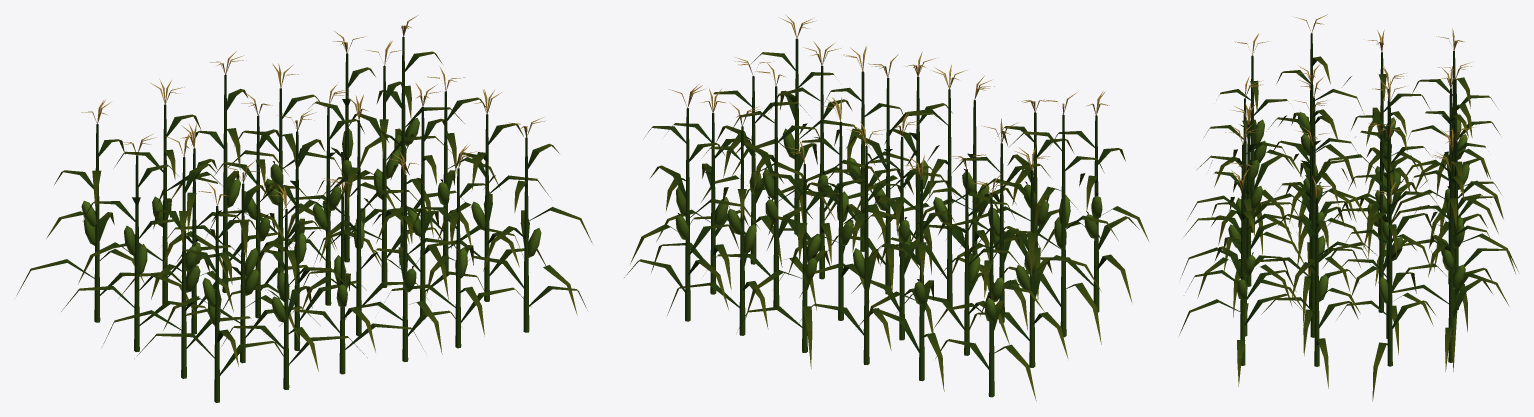
The model's file is fm_maize_3.glb.
The picture shows the model from 3 angles, left to right: view 1: azimuth 30°, elevation 25°; view 2: azimuth 150°, elevation 25°; view 3: azimuth 270°, elevation 25°; orthographic projection. The views are drawn at different scales.
Parts seen in each view (by area): view 1: fm_maize_3; view 2: fm_maize_3; view 3: fm_maize_3.
Part boxes in pixels (left/top/right/bottom): fm_maize_3: left=16, top=15, right=592, bottom=402; fm_maize_3: left=624, top=14, right=1148, bottom=400; fm_maize_3: left=1179, top=14, right=1519, bottom=401.
Size of the model in its own units: 5 by 2.59 by 3.66.
